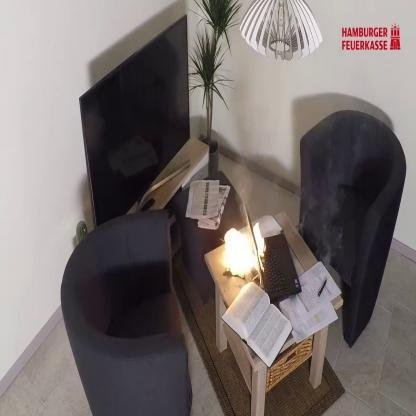fire: (211, 212, 277, 291)
